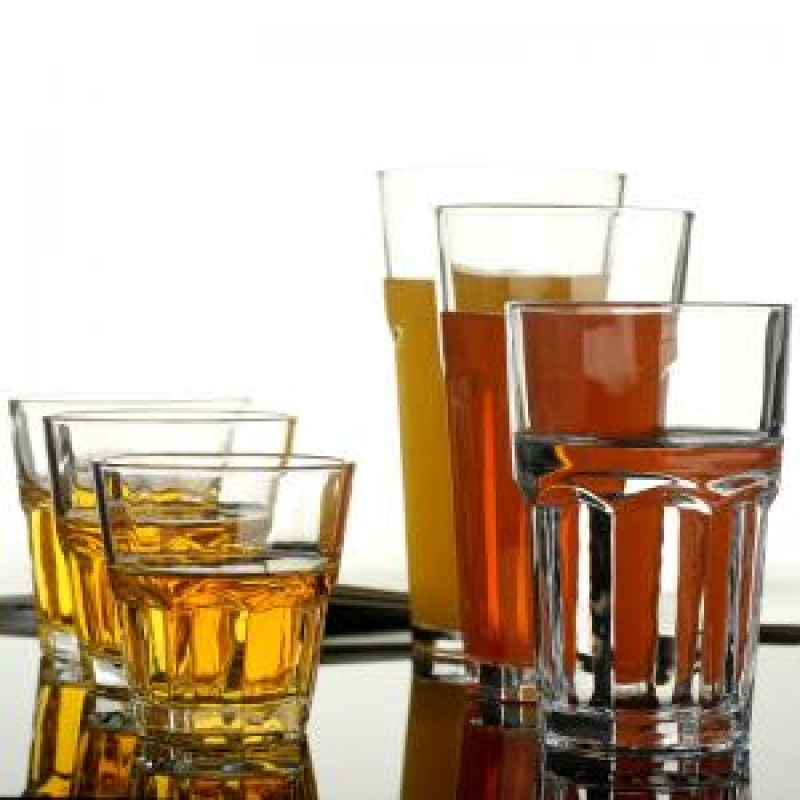whiskey: (497, 296, 772, 742), (93, 453, 339, 743)
